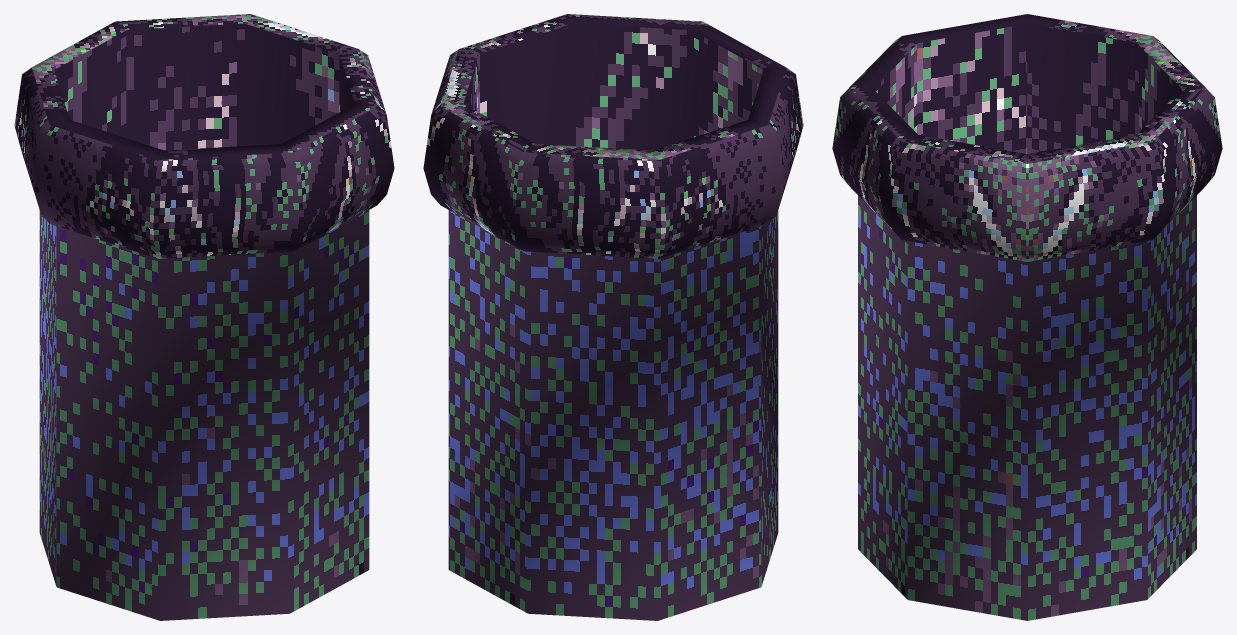
Rendered from trash.glb.
The picture shows the model from 3 angles, left to right: view 1: azimuth 30°, elevation 25°; view 2: azimuth 150°, elevation 25°; view 3: azimuth 270°, elevation 25°; orthographic projection.
Parts seen in each view (by area): view 1: trash; view 2: trash; view 3: trash.
Boxes of the visible parts, x1,y1,x2,y2 form: trash: [14, 14, 394, 620]; trash: [423, 14, 803, 620]; trash: [832, 14, 1222, 620].
Size of the model in its own units: 2.3 by 3 by 2.3.
1 material, 1 textured.
